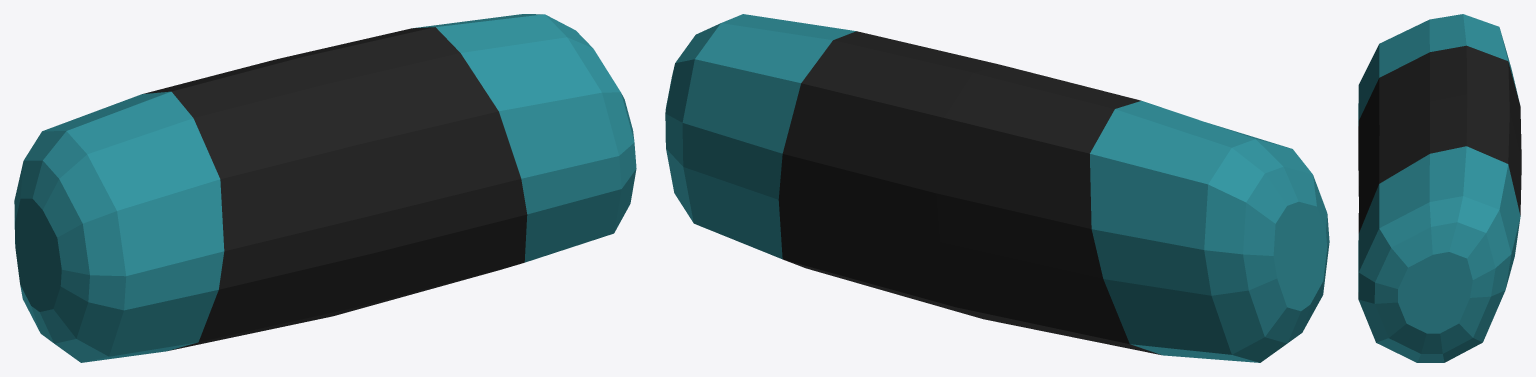
The model's file is Gaming_Chair_Ac_1.obj.
3 views of the same model, side by side, from view 1: azimuth 30°, elevation 25°; view 2: azimuth 150°, elevation 25°; view 3: azimuth 270°, elevation 25° (orthographic). The views are drawn at different scales.
Parts seen in each view (by area): view 1: Gaming_Chair_Ac_1; view 2: Gaming_Chair_Ac_1; view 3: Gaming_Chair_Ac_1.
Part boxes in pixels (bbox=[...]): Gaming_Chair_Ac_1: bbox=[14, 14, 636, 362]; Gaming_Chair_Ac_1: bbox=[665, 14, 1329, 362]; Gaming_Chair_Ac_1: bbox=[1358, 14, 1521, 362].
Size of the model in its own units: 0.3268 by 0.1281 by 0.1026.
